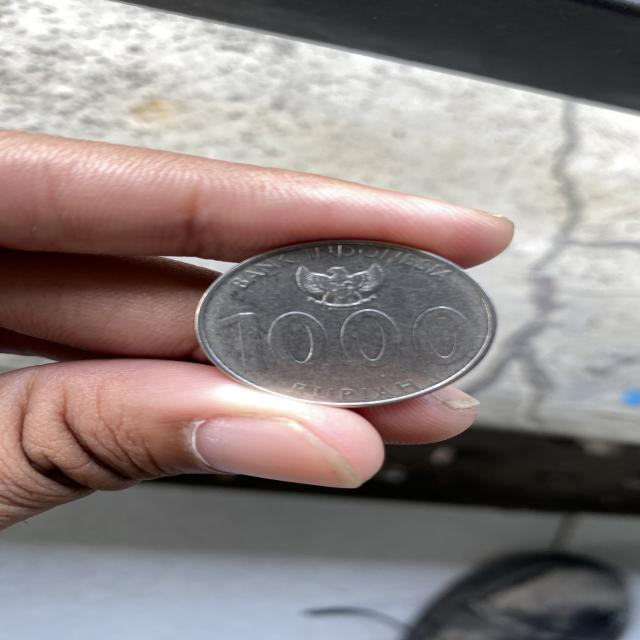1000-angklung: (196, 240, 496, 408)
